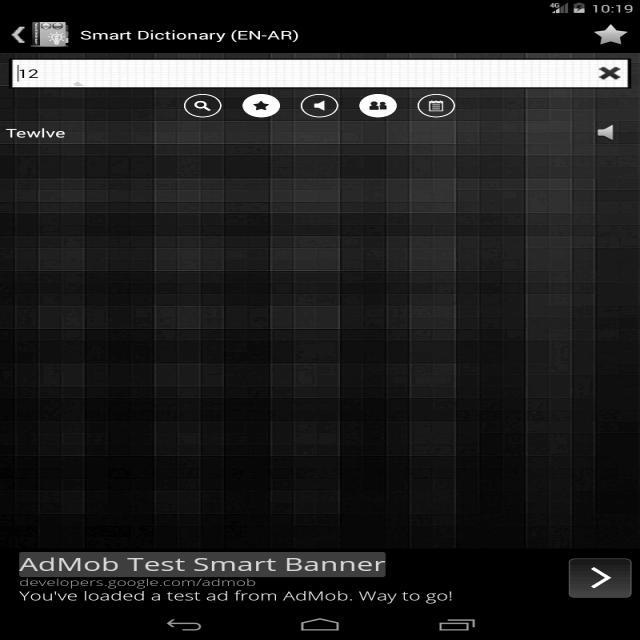ImageButton: (558, 558, 630, 592), (410, 85, 465, 121), (290, 81, 342, 119), (231, 83, 281, 121), (345, 83, 396, 119), (177, 86, 228, 120), (588, 126, 626, 146)
ImageView: (26, 20, 70, 54)
TextView: (9, 579, 461, 602), (14, 552, 385, 576), (80, 20, 311, 44), (1, 122, 68, 144)
